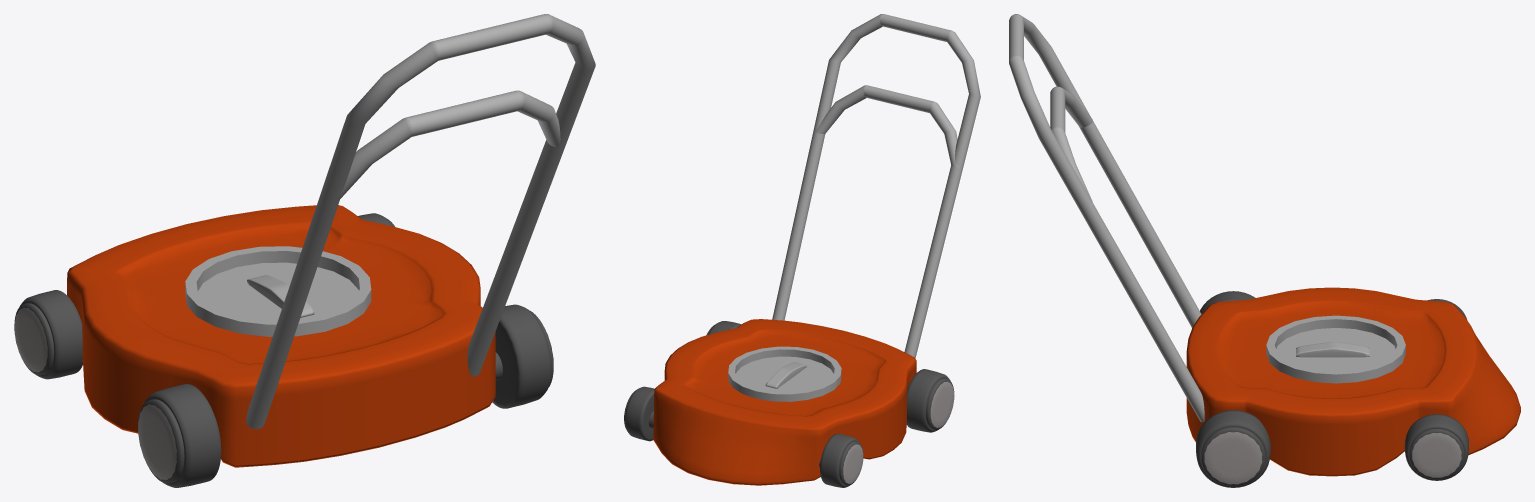
Rendered from LawnMachine.fbx.
The picture shows the model from 3 angles, left to right: view 1: azimuth 30°, elevation 25°; view 2: azimuth 150°, elevation 25°; view 3: azimuth 270°, elevation 25°; orthographic projection. The views are drawn at different scales.
Parts seen in each view (by area): view 1: pCylinder1, pCylinder14, pCylinder8, pCylinder9, pCylinder15, pCylinder10, pCylinder3, pCube46; view 2: pCylinder1, pCylinder14, pCylinder8, pCylinder9, pCylinder15, pCylinder10, pCylinder11, pCube46; view 3: pCylinder1, pCylinder14, pCylinder8, pCylinder3, pCylinder11, pCylinder15, pCube46.
Part boxes in pixels (x1,y1,x2,y2): pCylinder1: (67, 205, 495, 467); pCylinder14: (246, 14, 595, 429); pCylinder8: (185, 246, 371, 336); pCylinder9: (138, 384, 221, 487); pCylinder15: (338, 90, 560, 200); pCylinder10: (14, 290, 82, 379); pCylinder3: (492, 304, 553, 408); pCube46: (247, 275, 314, 317); pCylinder1: (653, 319, 916, 485); pCylinder14: (772, 14, 980, 358); pCylinder8: (728, 346, 841, 401); pCylinder9: (906, 369, 954, 432); pCylinder15: (813, 85, 958, 166); pCylinder10: (820, 433, 863, 487); pCylinder11: (624, 386, 654, 441); pCube46: (765, 362, 806, 388); pCylinder1: (1186, 287, 1520, 476); pCylinder14: (1009, 14, 1204, 422); pCylinder8: (1266, 315, 1405, 383); pCylinder3: (1196, 410, 1270, 487); pCylinder11: (1404, 414, 1468, 480); pCylinder15: (1050, 86, 1092, 206); pCube46: (1296, 342, 1369, 357).
Size of the model in its own units: 2.21 by 2.9 by 3.47.
